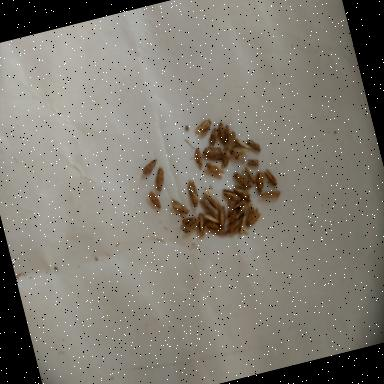pbw: (151, 163, 170, 192), (205, 158, 227, 182), (192, 212, 210, 240), (185, 177, 201, 208), (169, 195, 190, 218), (204, 185, 222, 210), (252, 166, 268, 194), (192, 118, 214, 138), (201, 144, 224, 163), (217, 146, 234, 170), (234, 170, 252, 192), (146, 188, 162, 212), (214, 204, 230, 228), (258, 186, 282, 202), (200, 195, 217, 217), (181, 216, 201, 234), (222, 184, 240, 204), (140, 157, 160, 175), (232, 182, 250, 202), (202, 208, 220, 227), (223, 130, 239, 151), (224, 218, 244, 234), (205, 128, 221, 148), (229, 144, 250, 159), (263, 168, 278, 188), (216, 121, 228, 145), (223, 209, 241, 225), (246, 136, 262, 154), (244, 162, 256, 185), (206, 217, 222, 234), (235, 136, 251, 152), (237, 216, 250, 234), (193, 147, 204, 168), (230, 199, 248, 210), (180, 214, 197, 225), (222, 124, 232, 142), (247, 158, 260, 170)
